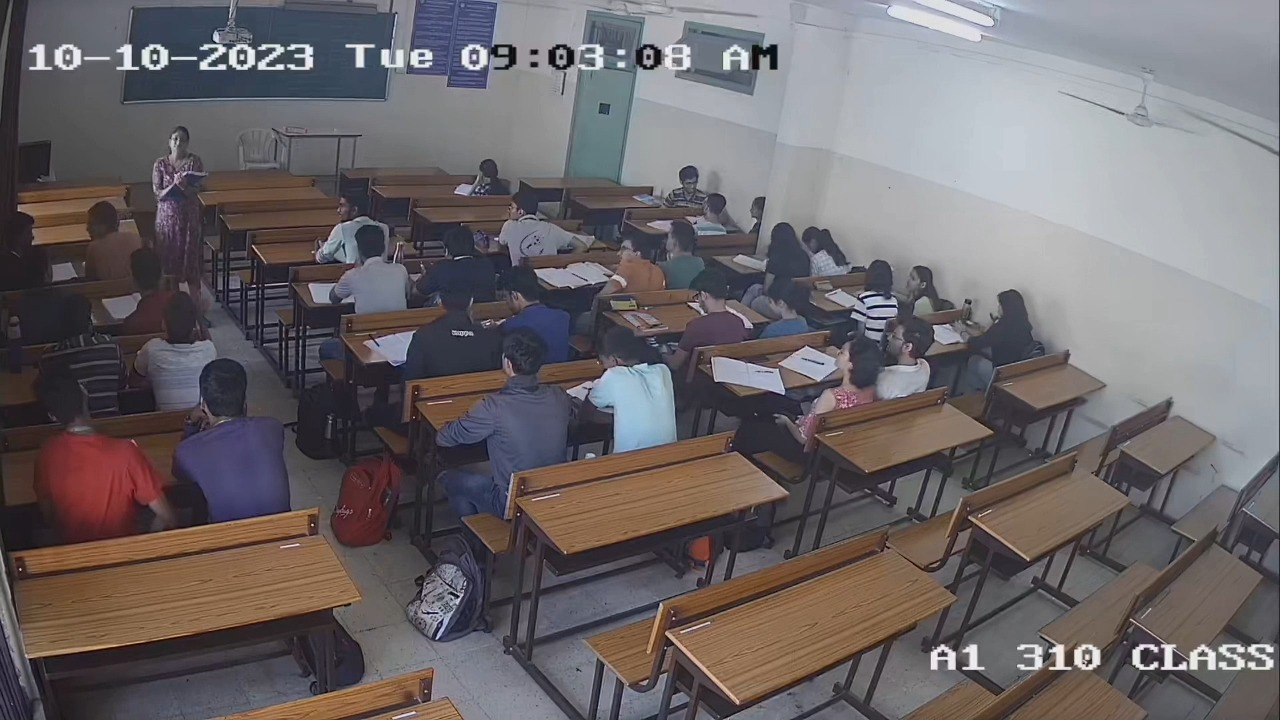cell-phones: (607, 294, 639, 312), (478, 315, 502, 330), (812, 278, 835, 292)
person: (495, 266, 573, 333), (679, 272, 747, 344), (852, 261, 901, 319)
